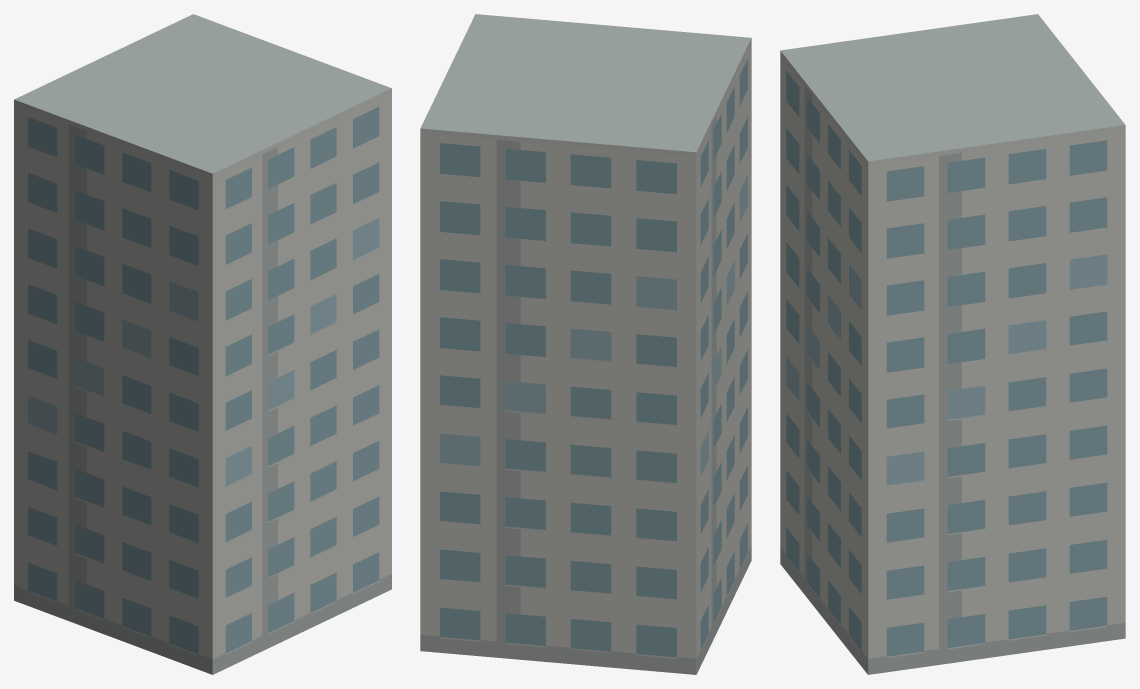
Rendered from residential-525d5c01-7f56-43e8-900a-3c64b06c5f81.glb.
The picture shows the model from 3 angles, left to right: view 1: azimuth 30°, elevation 25°; view 2: azimuth 150°, elevation 25°; view 3: azimuth 270°, elevation 25°; orthographic projection. The views are drawn at different scales.
Parts seen in each view (by area): view 1: residential-525d5c01-7f56-43e8-900a-3c64b06c5f81.tmp; view 2: residential-525d5c01-7f56-43e8-900a-3c64b06c5f81.tmp; view 3: residential-525d5c01-7f56-43e8-900a-3c64b06c5f81.tmp.
Boxes of the visible parts, x1,y1,x2,y2 form: residential-525d5c01-7f56-43e8-900a-3c64b06c5f81.tmp: [14, 14, 391, 674]; residential-525d5c01-7f56-43e8-900a-3c64b06c5f81.tmp: [420, 14, 751, 674]; residential-525d5c01-7f56-43e8-900a-3c64b06c5f81.tmp: [780, 14, 1125, 674].
Bounding box in the file's own units: 17.25 × 28 × 17.08.
